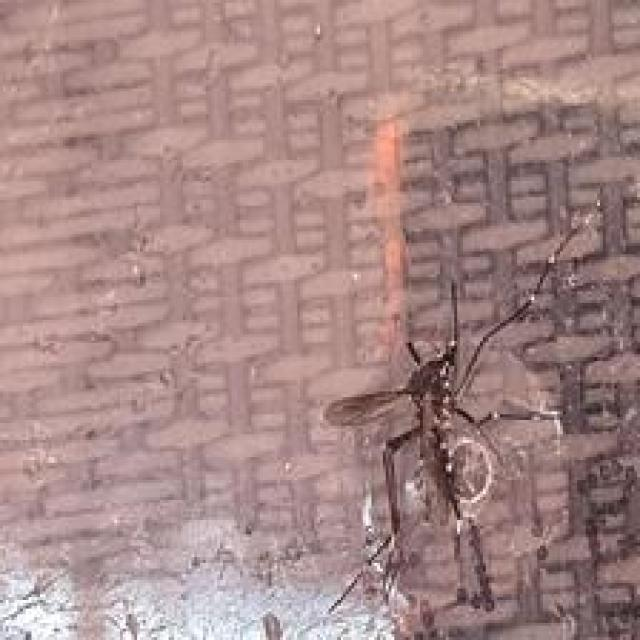Aedes albopictus: (320, 200, 603, 637)
